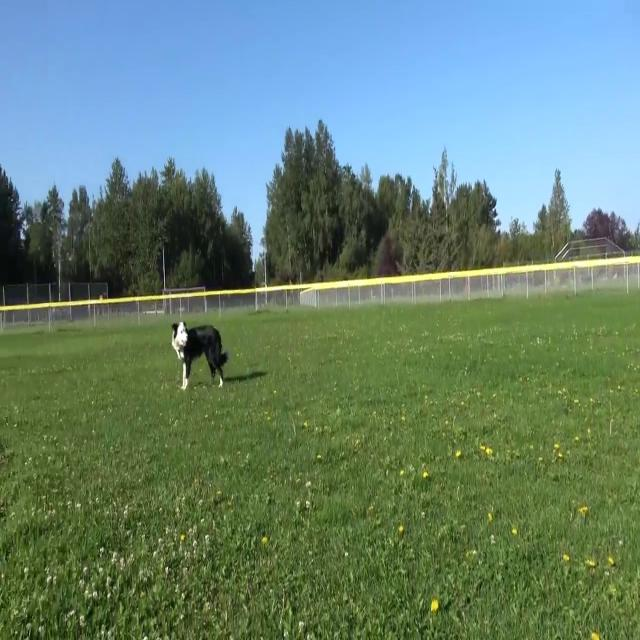Dog: (171, 321, 230, 390)
